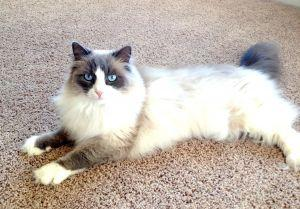ragdoll: (58, 33, 140, 113)
